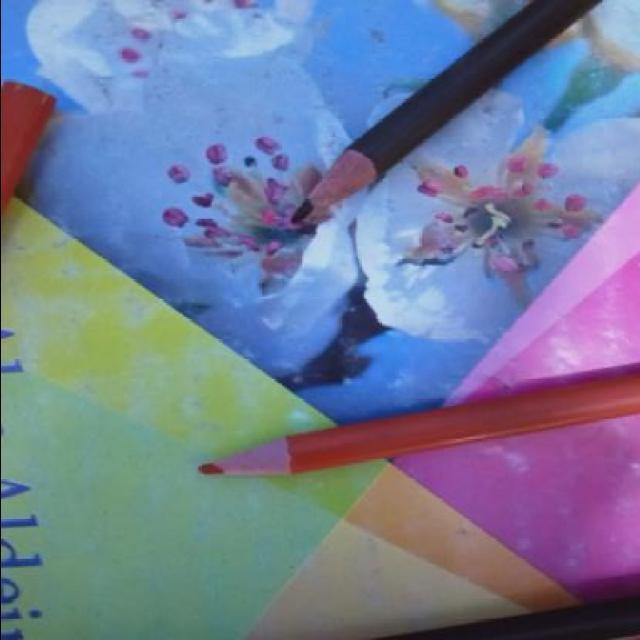pencil: (284, 128, 396, 222), (192, 433, 316, 487)
